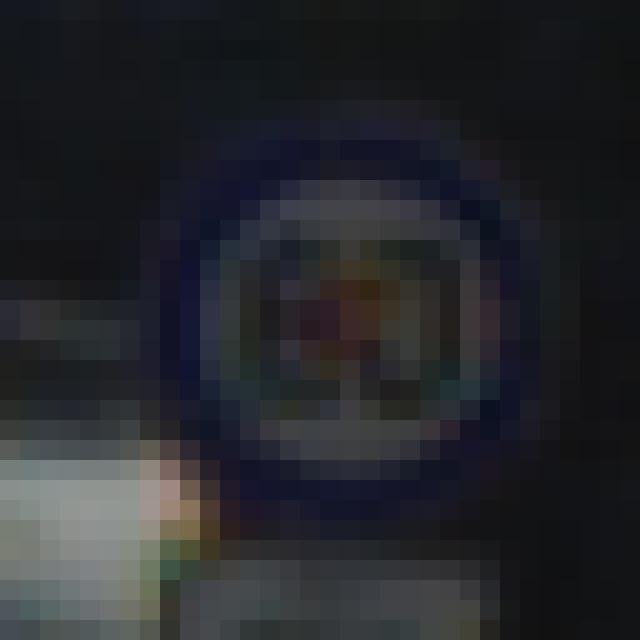SPEED-LIMIT-80: (150, 137, 526, 507)
